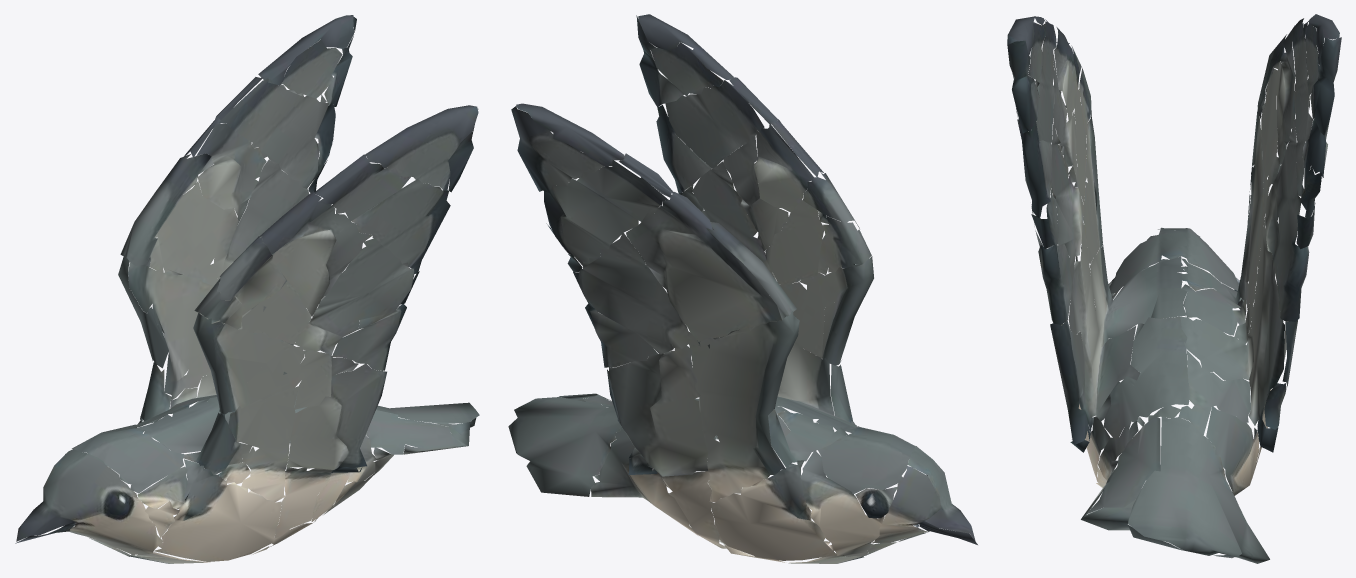
File: bird.glb
3 renders of one model, left to right at view 1: azimuth 30°, elevation 25°; view 2: azimuth 150°, elevation 25°; view 3: azimuth 270°, elevation 25°, orthographic. The views are drawn at different scales.
Visible parts, largest first — view 1: Bird; view 2: Bird; view 3: Bird.
Part boxes in pixels (<box>): Bird: <box>15,15,479,563</box>; Bird: <box>508,14,977,563</box>; Bird: <box>1007,14,1341,563</box>.
Size of the model in its own units: 1 by 0.9314 by 0.4902.
Materials: 1 (1 with a texture image).
